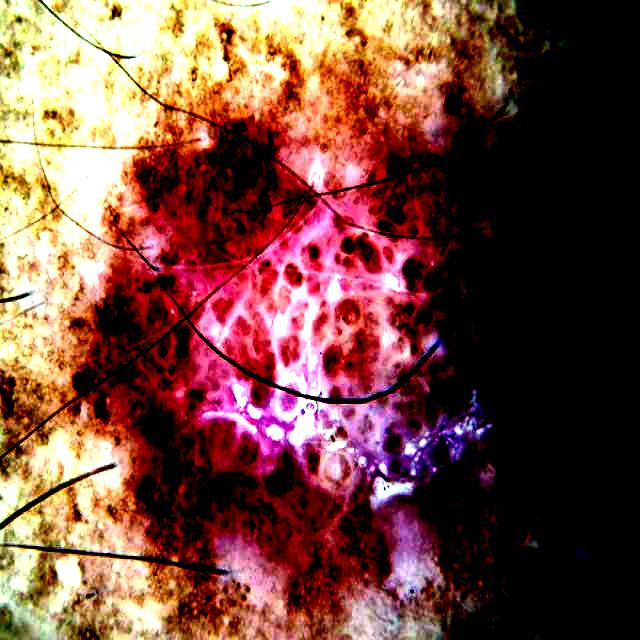DF: (91, 82, 576, 513)
